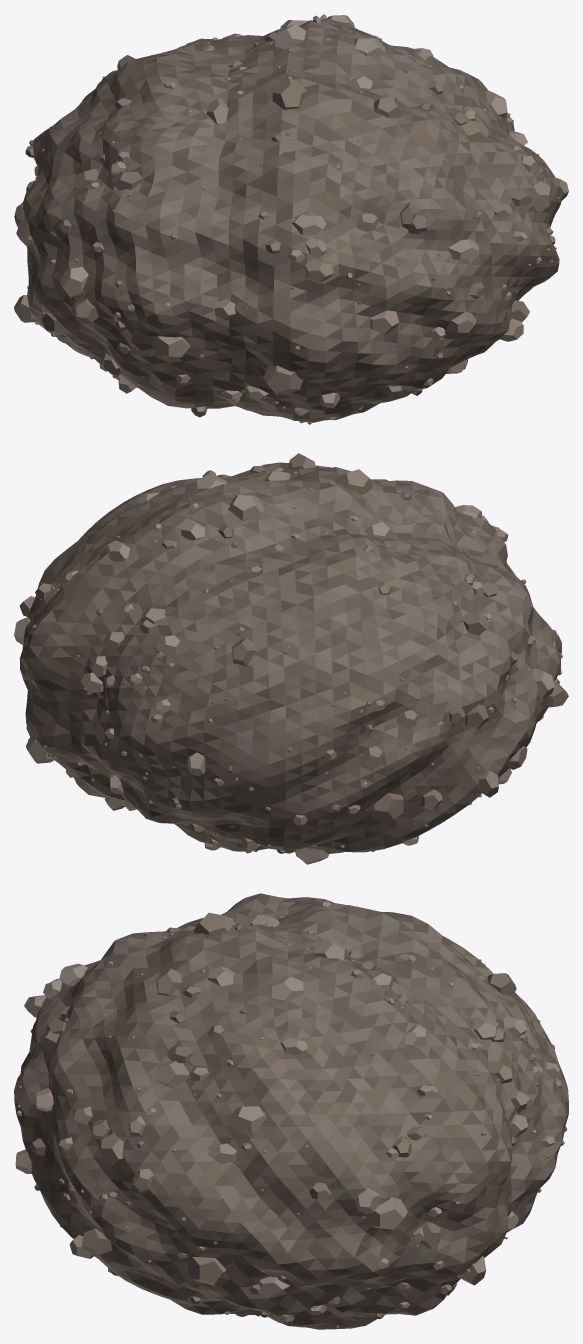
The model's file is dimorphos.glb.
The picture shows the model from 3 angles, top to bottom: view 1: azimuth 30°, elevation 25°; view 2: azimuth 150°, elevation 25°; view 3: azimuth 270°, elevation 25°; orthographic projection. The views are drawn at different scales.
Parts seen in each view (by area): view 1: dimorphos.surface.mesh_Facet_colors, dimorphos.boulders.mesh_Regolith_4, dimorphos.boulders.mesh_Regolith_1, dimorphos.boulders.mesh_Regolith_3, dimorphos.boulders.mesh_Regolith_2, dimorphos.boulders.mesh_Regolith_5; view 2: dimorphos.surface.mesh_Facet_colors, dimorphos.boulders.mesh_Regolith_4, dimorphos.boulders.mesh_Regolith_3, dimorphos.boulders.mesh_Regolith_1, dimorphos.boulders.mesh_Regolith_5, dimorphos.boulders.mesh_Regolith_2; view 3: dimorphos.surface.mesh_Facet_colors, dimorphos.boulders.mesh_Regolith_1, dimorphos.boulders.mesh_Regolith_4, dimorphos.boulders.mesh_Regolith_2, dimorphos.boulders.mesh_Regolith_3, dimorphos.boulders.mesh_Regolith_5.
Part boxes in pixels (x1,y1,x2,y2): dimorphos.surface.mesh_Facet_colors: (14, 18, 561, 422); dimorphos.boulders.mesh_Regolith_4: (35, 14, 549, 419); dimorphos.boulders.mesh_Regolith_1: (14, 38, 568, 424); dimorphos.boulders.mesh_Regolith_3: (15, 32, 560, 388); dimorphos.boulders.mesh_Regolith_2: (27, 15, 538, 403); dimorphos.boulders.mesh_Regolith_5: (18, 31, 555, 408); dimorphos.surface.mesh_Facet_colors: (19, 462, 561, 853); dimorphos.boulders.mesh_Regolith_4: (28, 471, 556, 864); dimorphos.boulders.mesh_Regolith_3: (47, 466, 568, 858); dimorphos.boulders.mesh_Regolith_1: (35, 467, 561, 847); dimorphos.boulders.mesh_Regolith_5: (32, 453, 562, 853); dimorphos.boulders.mesh_Regolith_2: (14, 486, 516, 852); dimorphos.surface.mesh_Facet_colors: (14, 893, 568, 1329); dimorphos.boulders.mesh_Regolith_1: (15, 906, 564, 1322); dimorphos.boulders.mesh_Regolith_4: (36, 897, 559, 1327); dimorphos.boulders.mesh_Regolith_2: (16, 901, 554, 1314); dimorphos.boulders.mesh_Regolith_3: (18, 927, 567, 1314); dimorphos.boulders.mesh_Regolith_5: (17, 924, 549, 1319).
Bounding box in the file's own units: 183 × 127 × 173.
